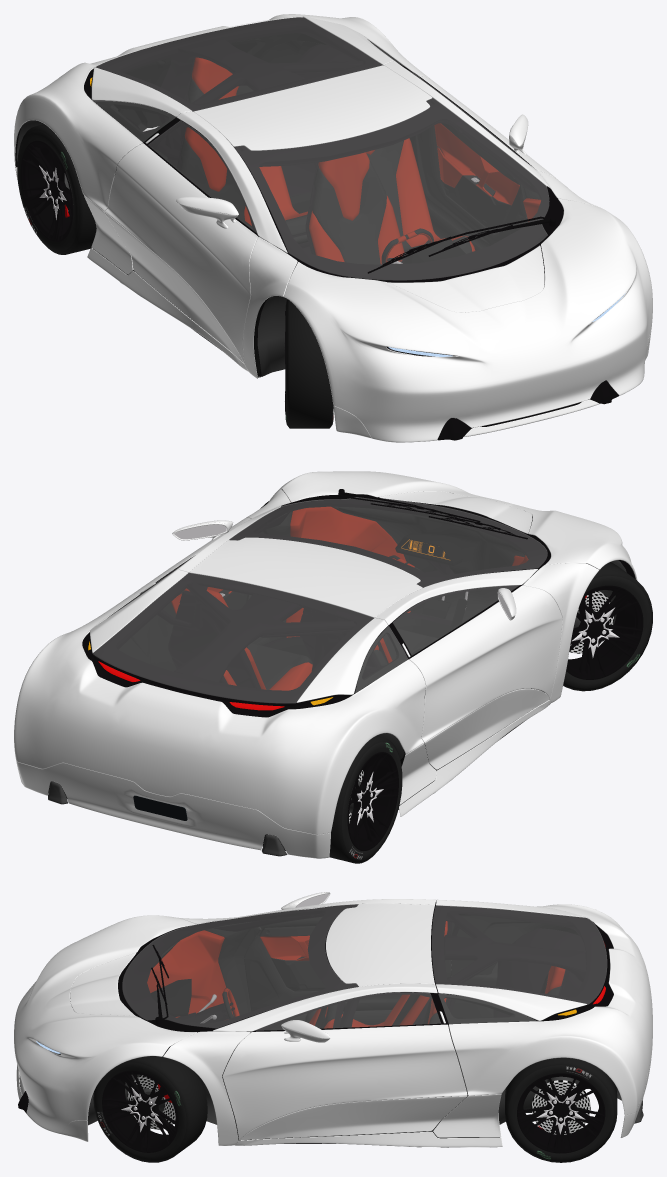
The model's file is apex.glb.
The picture shows the model from 3 angles, top to bottom: view 1: azimuth 30°, elevation 25°; view 2: azimuth 150°, elevation 25°; view 3: azimuth 270°, elevation 25°; orthographic projection. The views are drawn at different scales.
Visible parts, largest first — view 1: BodyRearPanelsColor1, BodyWindshield, BodyWindshieldGasket, BodyRoofPanel, InteriorDashSides, InteriorDashMid, InteriorSeatsColor2, object 21, WheelFrontLRim, BodyUnderside, InteriorMid, InteriorSteeringDash; view 2: BodyRearPanelsColor1, BodyWindshield, BodyRoofPanel, BodyWindshieldGasket, InteriorDashMid, WheelFrontLRim, object 21, InteriorDashSides, InteriorSeatsColor2, InteriorFloormats, InteriorSteeringDash, BodyUnderside (+3 smaller); view 3: BodyRearPanelsColor1, BodyWindshield, BodyRoofPanel, BodyWindshieldGasket, object 21, WheelFrontLRim, InteriorDashMid, InteriorDashSides, InteriorMid, WheelFrontLBrakeDisc, BodyUnderside, InteriorSeatsColor2 (+1 smaller).
Part boxes in pixels (x1=…): BodyRearPanelsColor1: x1=14, y1=14, x2=652, y2=442; BodyWindshield: x1=94, y1=16, x2=549, y2=280; BodyWindshieldGasket: x1=16, y1=17, x2=618, y2=440; BodyRoofPanel: x1=15, y1=65, x2=651, y2=438; InteriorDashSides: x1=185, y1=57, x2=540, y2=349; InteriorDashMid: x1=15, y1=33, x2=526, y2=281; InteriorSeatsColor2: x1=180, y1=78, x2=472, y2=264; object 21: x1=17, y1=124, x2=333, y2=428; WheelFrontLRim: x1=20, y1=140, x2=285, y2=414; BodyUnderside: x1=16, y1=78, x2=526, y2=423; InteriorMid: x1=93, y1=173, x2=557, y2=376; InteriorSteeringDash: x1=404, y1=239, x2=465, y2=263; BodyRearPanelsColor1: x1=14, y1=471, x2=637, y2=834; BodyWindshield: x1=92, y1=497, x2=547, y2=703; BodyRoofPanel: x1=16, y1=491, x2=550, y2=858; BodyWindshieldGasket: x1=83, y1=489, x2=635, y2=753; InteriorDashMid: x1=48, y1=503, x2=528, y2=850; WheelFrontLRim: x1=347, y1=585, x2=643, y2=850; object 21: x1=260, y1=501, x2=652, y2=863; InteriorDashSides: x1=171, y1=506, x2=528, y2=690; InteriorSeatsColor2: x1=246, y1=628, x2=437, y2=689; InteriorFloormats: x1=268, y1=598, x2=467, y2=659; InteriorSteeringDash: x1=395, y1=533, x2=462, y2=566; BodyUnderside: x1=48, y1=560, x2=626, y2=856; BodyRearPanelsColor1: x1=14, y1=892, x2=652, y2=1145; BodyWindshield: x1=122, y1=904, x2=606, y2=1030; BodyRoofPanel: x1=16, y1=892, x2=652, y2=1147; BodyWindshieldGasket: x1=18, y1=901, x2=613, y2=1143; object 21: x1=93, y1=1054, x2=617, y2=1162; WheelFrontLRim: x1=102, y1=1070, x2=605, y2=1153; InteriorDashMid: x1=118, y1=907, x2=613, y2=1030; InteriorDashSides: x1=147, y1=921, x2=565, y2=1028; InteriorMid: x1=205, y1=921, x2=499, y2=1143; WheelFrontLBrakeDisc: x1=127, y1=1075, x2=590, y2=1134; BodyUnderside: x1=38, y1=927, x2=643, y2=1125; InteriorSeatsColor2: x1=304, y1=973, x2=560, y2=1028.
Bounding box in the file's own units: 2.54 × 1.15 × 4.36.
23 materials, 5 textured.
